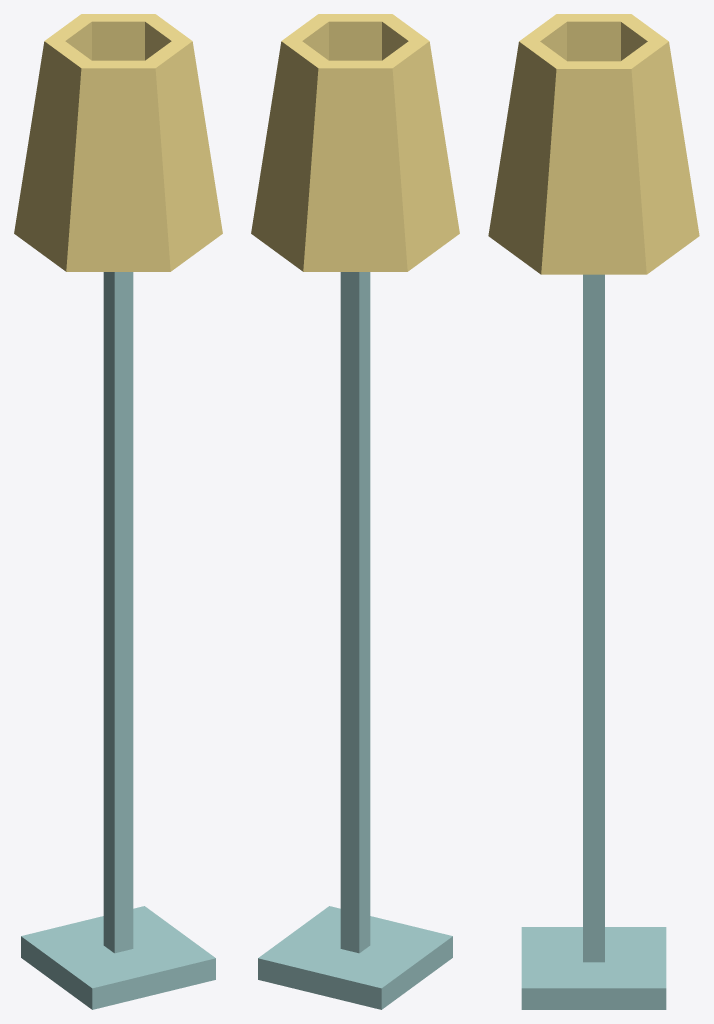
Rendered from lampRoundFloor.glb.
3 renders of one model, left to right at view 1: azimuth 30°, elevation 25°; view 2: azimuth 150°, elevation 25°; view 3: azimuth 270°, elevation 25°, orthographic.
Size of the model in its own units: 1.52 by 8.6 by 1.76.
